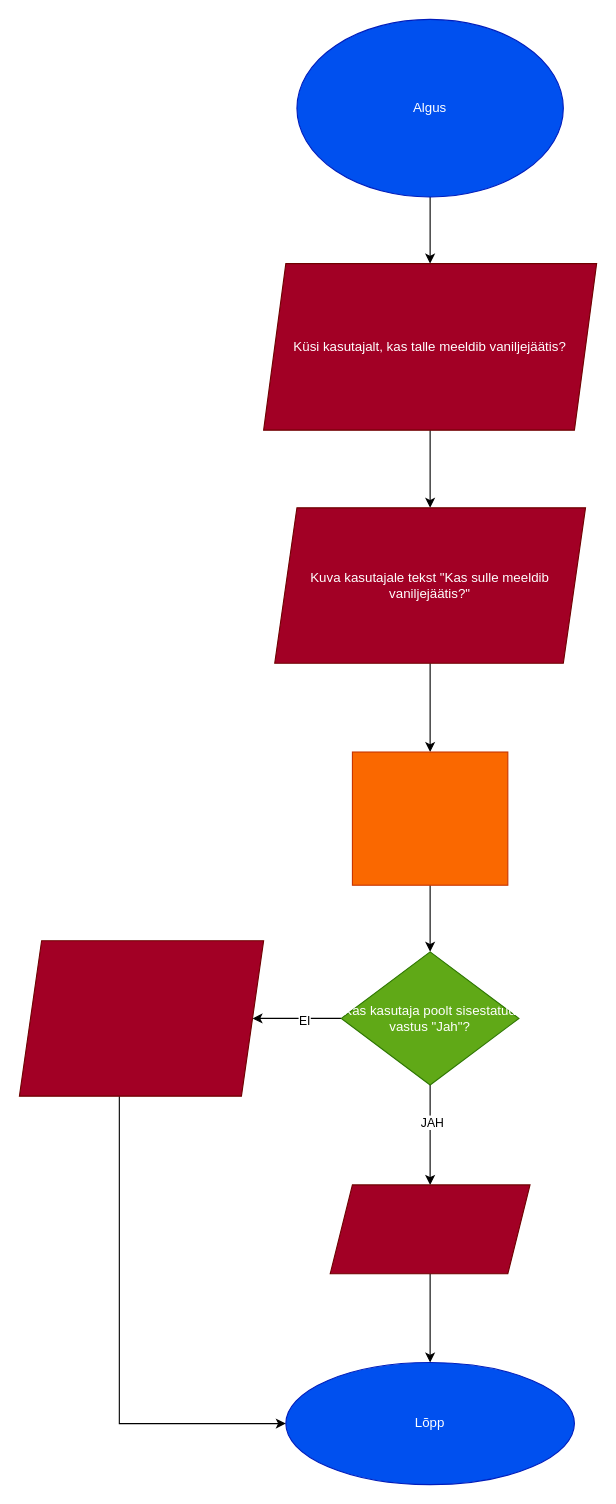
This 616x1504 diagram has some shape labels left out. Here are the shapes that lost their labels. From the top down, the centre of each, then its label:
(x=429, y=818): Oota kuni kasutaja sisestab vastuse
(x=141, y=1018): Kuva kasutajale tekst: "Vähemalt pole basic maitse sul"
(x=429, y=1229): Kuva kasutajale tekst: "Vanilla ninja jäätis on most basic"
